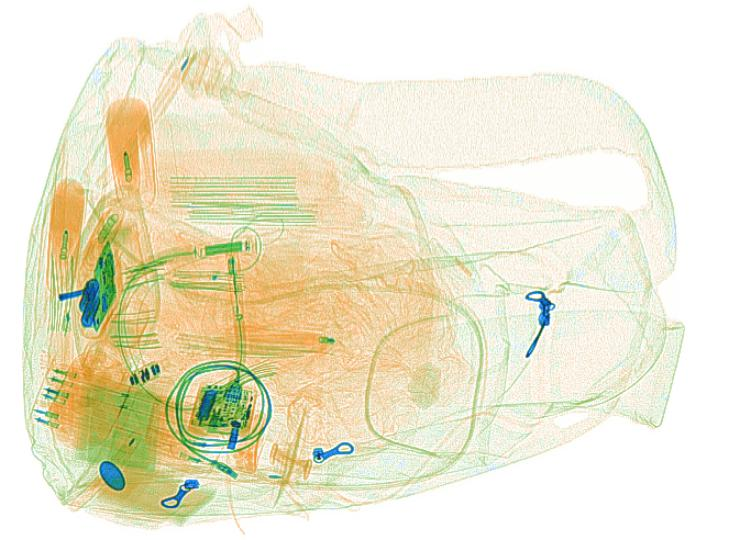battery: (77, 276, 100, 325)
plasticBottleWithaNozzle: (106, 95, 154, 212), (45, 176, 83, 300)
